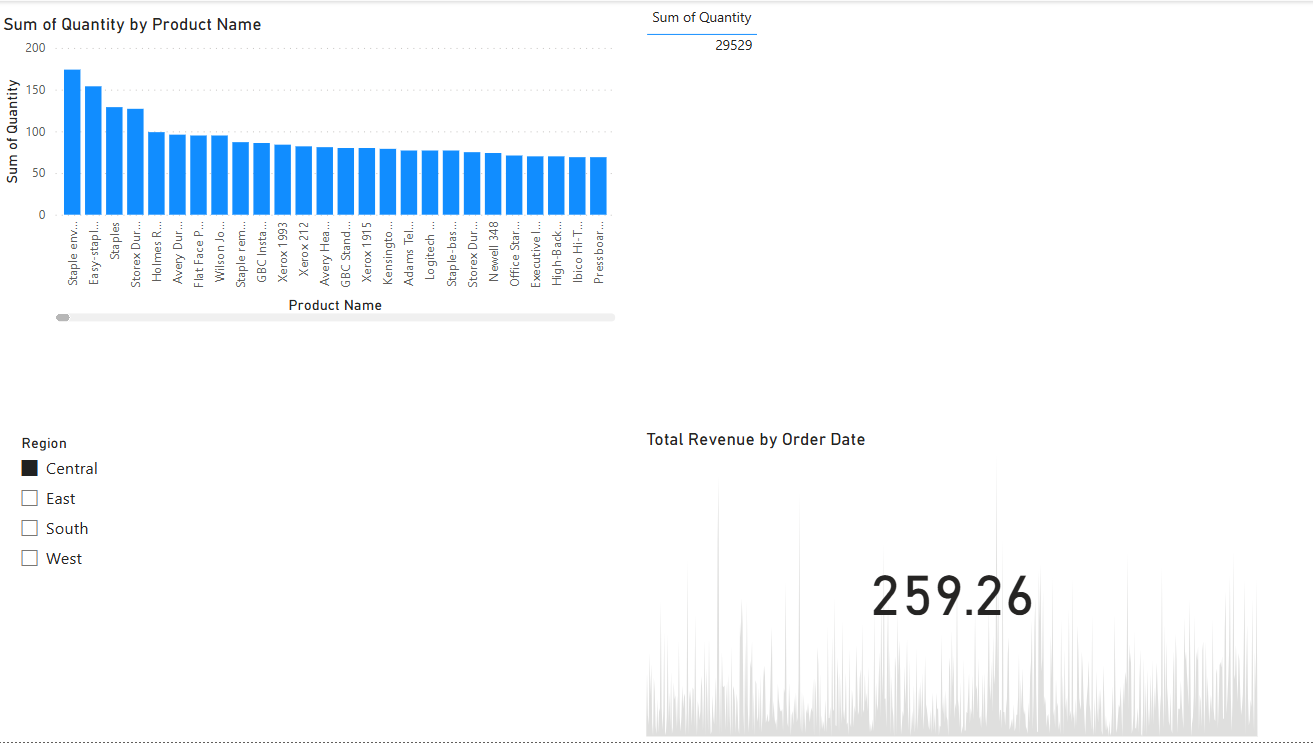

The dashboard page shown, as its layout file describes it:
{"tool":"powerbi","page":{"name":"Dashboard","canvas":[1280,720],"ordinal":0},"visuals":[{"type":"slicer","fields":{"Values":["sales data.Region"]},"box":[10,416,605,304],"z":1},{"type":"clusteredColumnChart","fields":{"Category":["sales data.Product Name"],"Y":["Sum(sales data.Quantity)"]},"box":[0,12.6,605.5,304.2],"z":2},{"type":"tableEx","fields":{"Values":["Sum(sales data.Quantity)"]},"box":[625,0,605,304],"z":3},{"type":"kpi","fields":{"Indicator":["sales data.Total Revenue"],"TrendLine":["sales data.Order Date"]},"box":[625,416,605,304],"z":4}]}

Visuals, with their boxes in screenshot pixels (x1, y1, x2, y2), scaled from the page's 1280x720 canvas onto the 1313x743 screenshot:
slicer - sales data.Region: (x1=10, y1=429, x2=631, y2=742)
clusteredColumnChart - sales data.Product Name x Sum(sales data.Quantity): (x1=0, y1=13, x2=621, y2=327)
tableEx - Sum(sales data.Quantity): (x1=641, y1=0, x2=1262, y2=314)
kpi - sales data.Total Revenue x sales data.Order Date: (x1=641, y1=429, x2=1262, y2=742)
